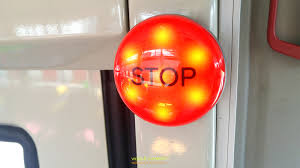bell: (107, 12, 230, 131)
